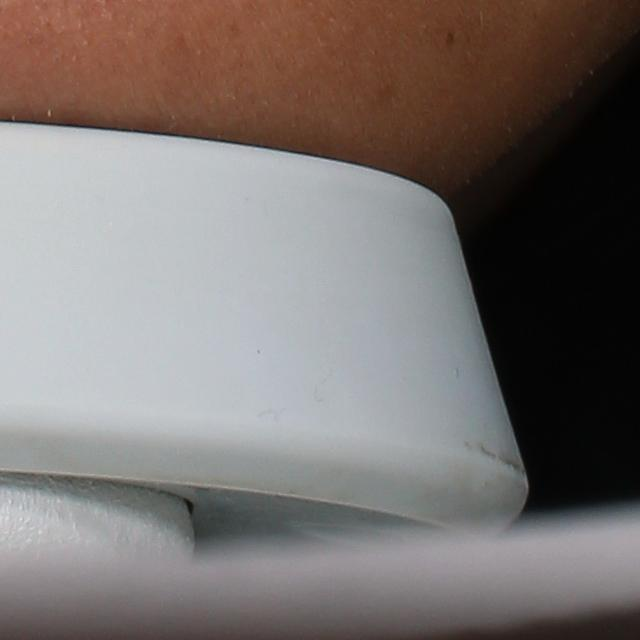nevus: (443, 30, 456, 47)
